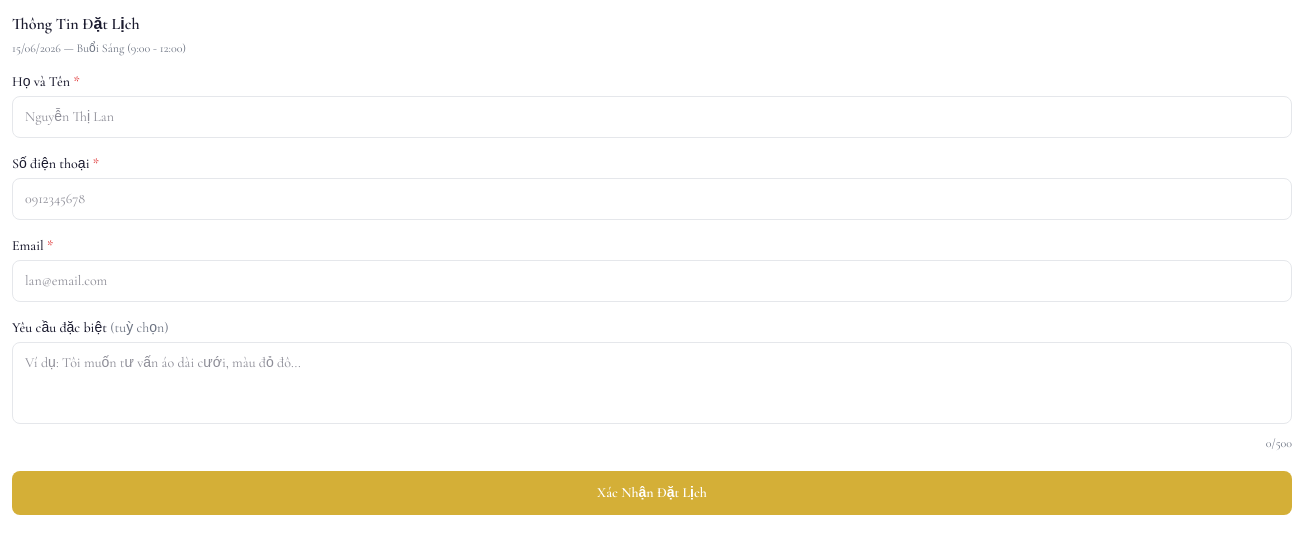
BookingForm › validates Vietnamese phone number format on blur
This screenshot has width=1304, height=552.
Type "123456" into the field labelled "Số điện thoại *" at (652, 199), box [12, 178, 1292, 220]
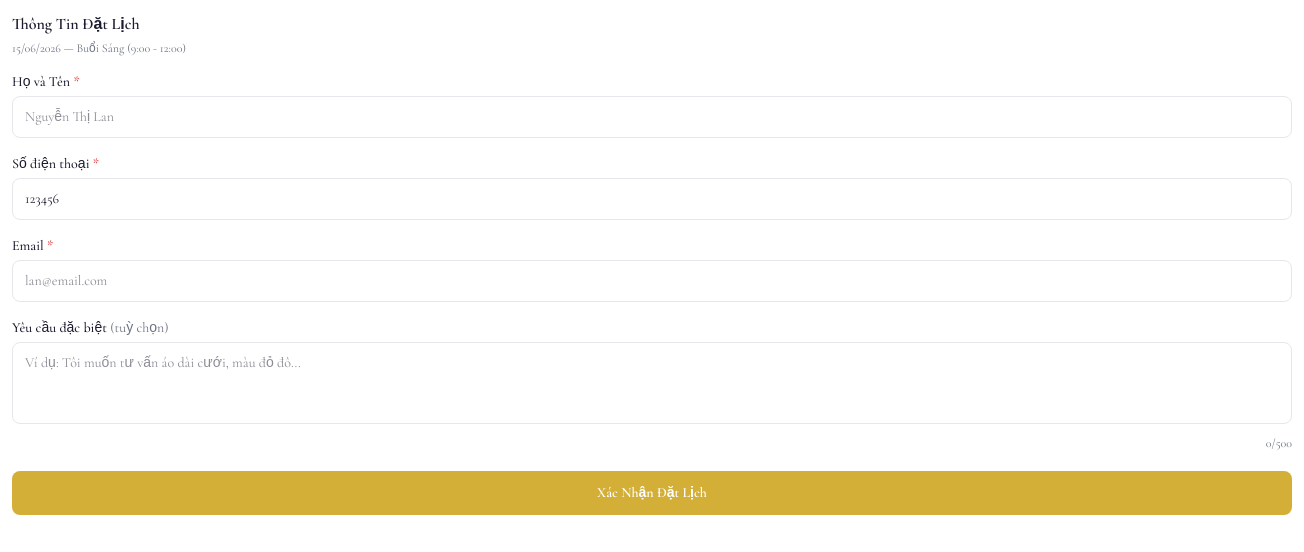
Leave the field labelled "Số điện thoại *", box [12, 178, 1292, 220]
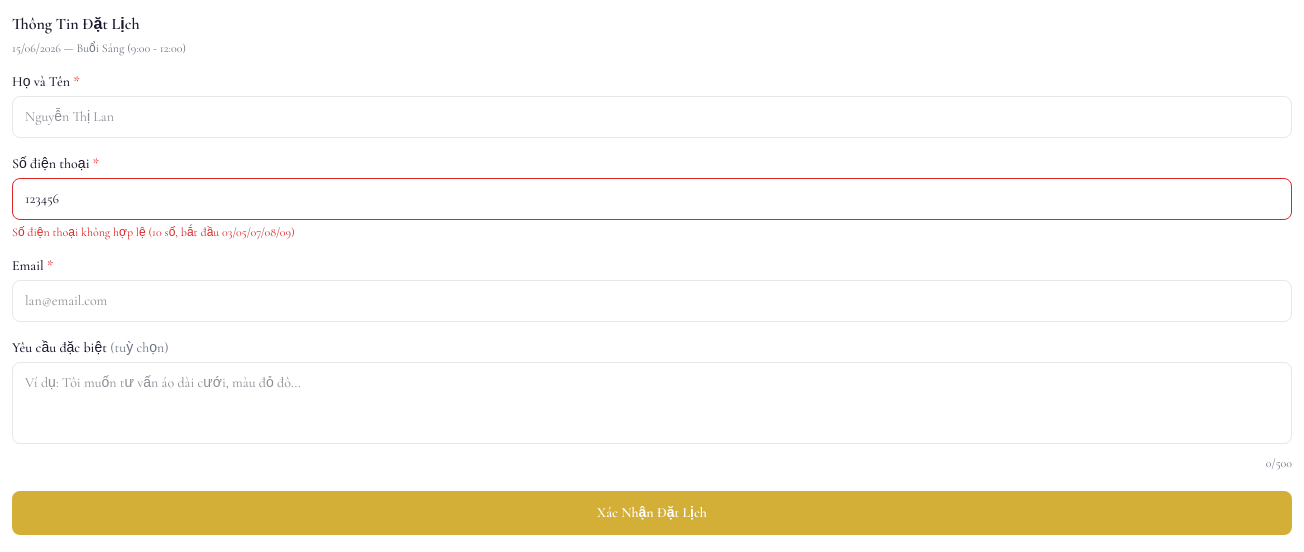
Now the text "Số điện thoại không hợp lệ (10 số, bắt đầu 03/05/07/08/09)" is shown, box [12, 225, 295, 239]
